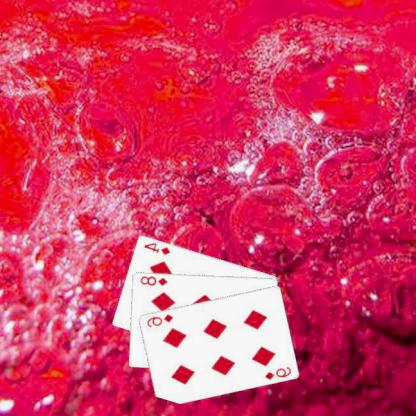4D: (142, 240, 173, 256)
6D: (146, 311, 176, 329), (264, 363, 294, 381)
8D: (139, 273, 171, 287)
